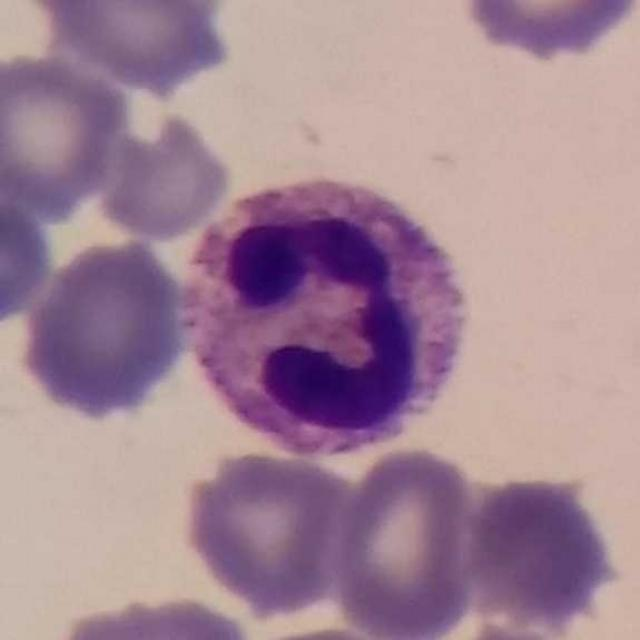Neutrophil: (172, 158, 491, 466)
RBC: (13, 232, 196, 428), (176, 447, 360, 620), (326, 443, 485, 640), (458, 469, 629, 636), (0, 48, 130, 214), (90, 106, 237, 242), (39, 0, 236, 93), (452, 0, 640, 62), (40, 589, 265, 640), (0, 189, 57, 337), (227, 621, 423, 640), (415, 620, 599, 640)
